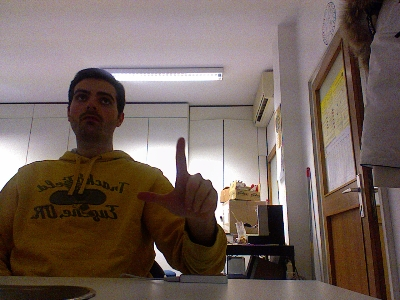枪: (134, 136, 218, 220)
